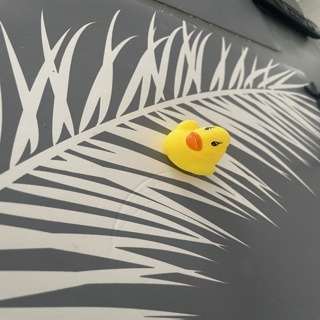duck_regular: (163, 116, 227, 181)
